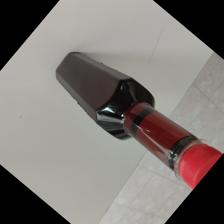Namngu: (54, 52, 224, 192)
